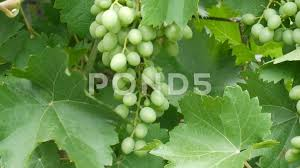grapes: (94, 7, 174, 154)
